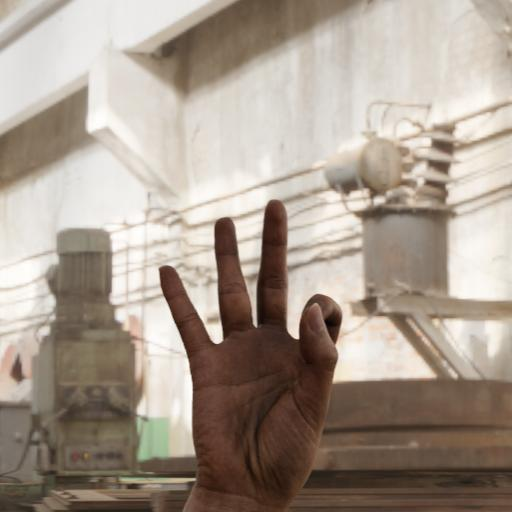F: (154, 196, 356, 512)
